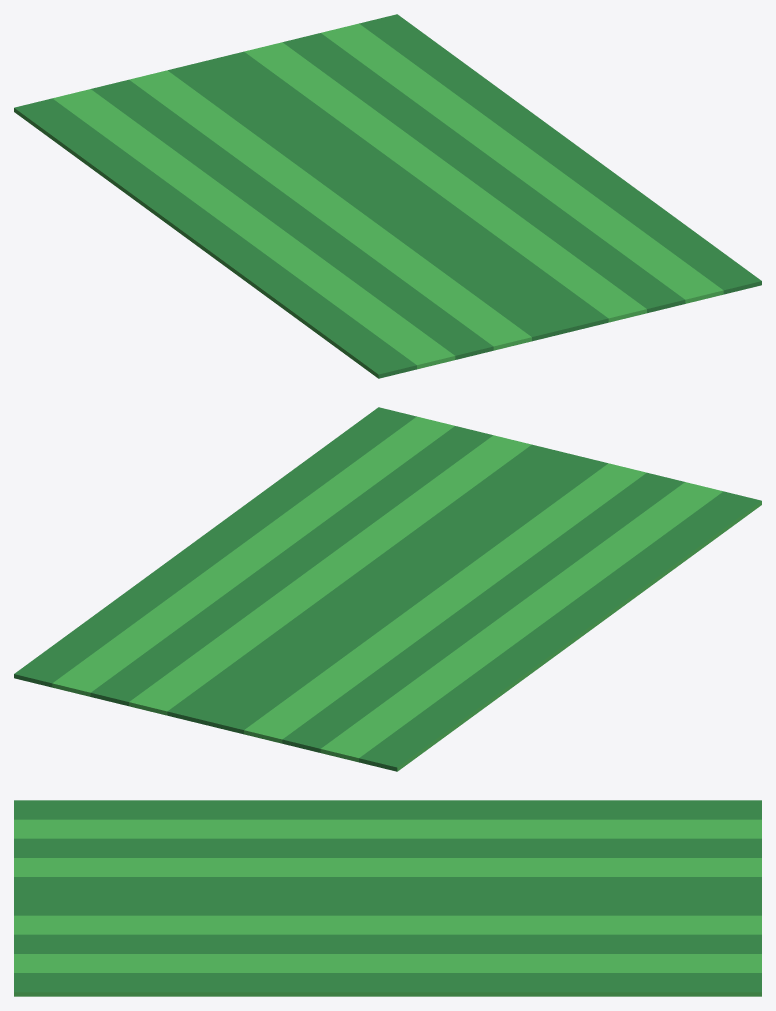
Rendered from CarpeLines1.fbx.
3 views of the same model, one above another, from view 1: azimuth 30°, elevation 25°; view 2: azimuth 150°, elevation 25°; view 3: azimuth 270°, elevation 25° (orthographic). The views are drawn at different scales.
Visible parts, largest first — view 1: Cube; view 2: Cube; view 3: Cube.
Part boxes in pixels (x1,y1,x2,y2): Cube: (14,14,761,378); Cube: (14,407,761,771); Cube: (14,800,761,996).
Size of the model in its own units: 1321 by 2176 by 13.92.
